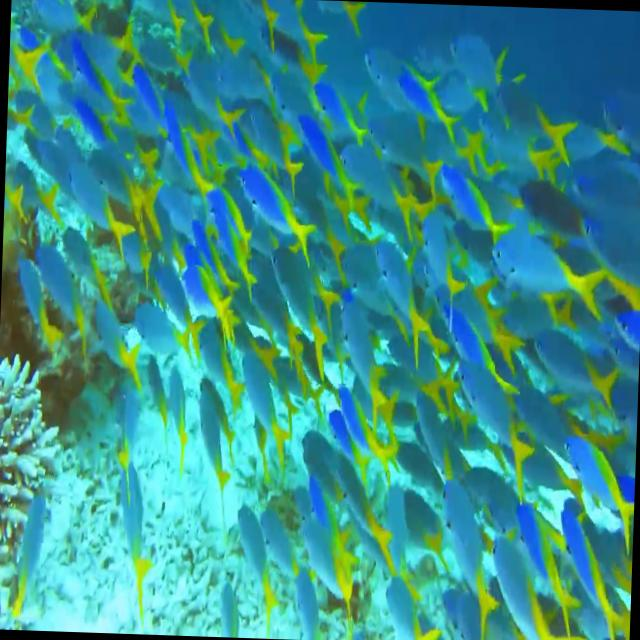fish: (486, 225, 604, 327), (452, 356, 532, 502), (433, 481, 503, 640), (315, 442, 399, 572), (52, 20, 140, 132), (558, 434, 636, 553), (389, 55, 472, 160), (266, 240, 330, 376), (368, 236, 433, 366), (111, 462, 160, 632), (228, 162, 316, 256), (486, 531, 561, 640), (82, 141, 166, 238), (24, 242, 94, 352), (61, 154, 138, 254), (233, 496, 290, 630), (199, 182, 260, 304), (332, 385, 404, 482), (494, 84, 574, 168), (238, 348, 292, 470), (436, 162, 508, 250), (146, 260, 206, 354), (192, 380, 234, 510), (9, 477, 46, 618), (310, 76, 368, 146), (130, 296, 191, 356), (163, 363, 192, 477)
